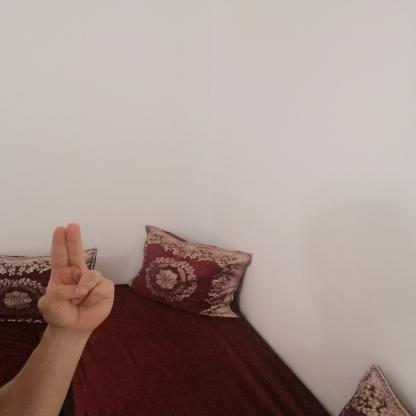TA: (28, 216, 125, 335)
